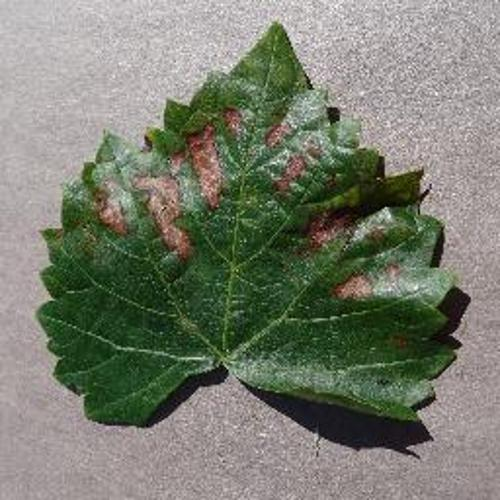Grape: (37, 25, 454, 425)
